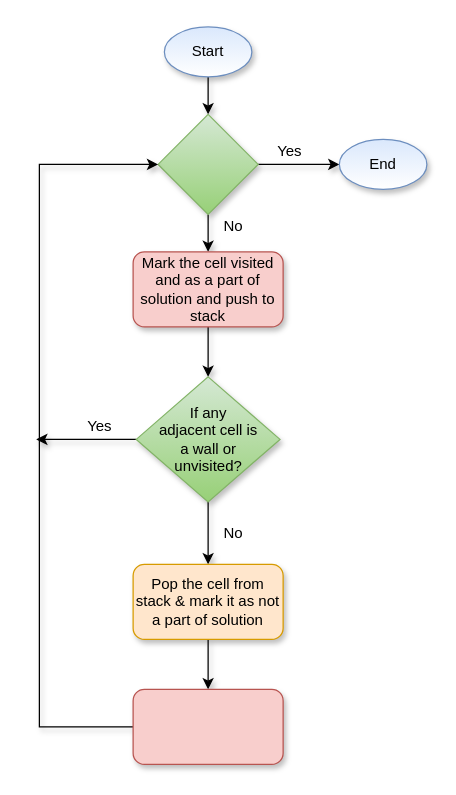
Some shapes in this 456 by 795 pixel diagram are drawn without their labels. Each missing label, with the centre of its shape:
"Backtrack to the previous cell" belongs at (209,728).
"Is the cell end point?" belongs at (209,165).
